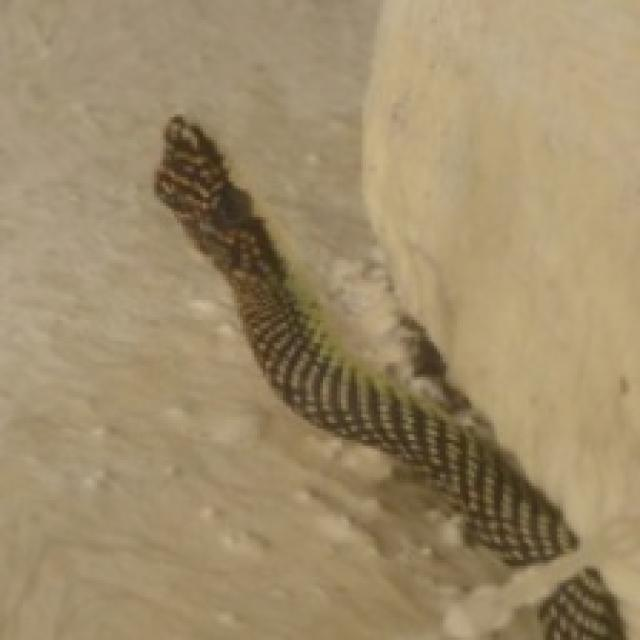paradise tree snake: (154, 117, 574, 563), (537, 569, 623, 637)
